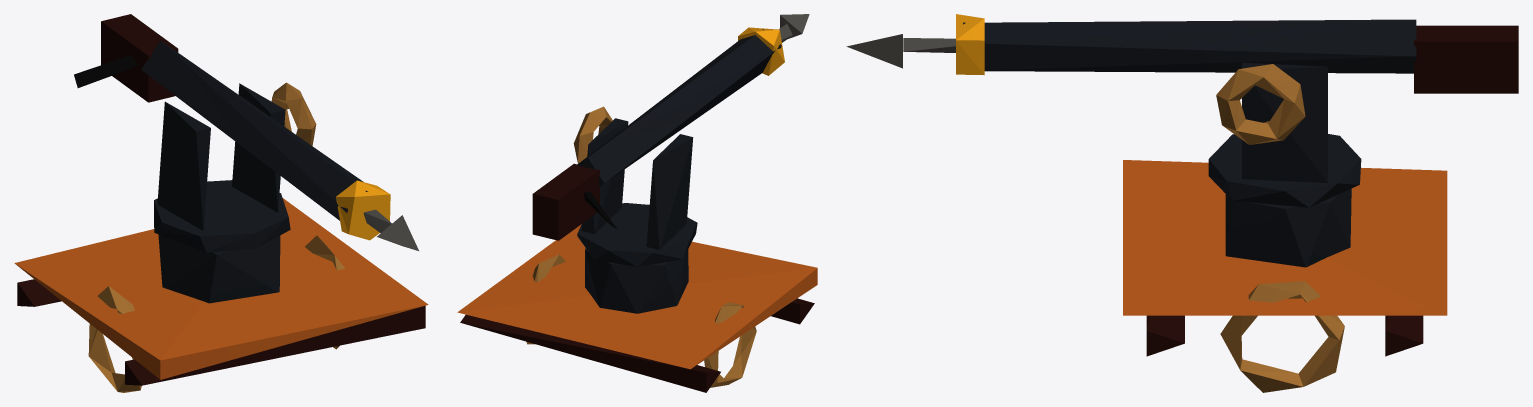
Rendered from tb_upg_harpoon_turret.three-web-toon.lod50.glb.
3 renders of one model, left to right at view 1: azimuth 30°, elevation 25°; view 2: azimuth 150°, elevation 25°; view 3: azimuth 270°, elevation 25°, orthographic. The views are drawn at different scales.
Parts seen in each view (by area): view 1: tb_upg_harpoon_turret_mesh_lod, harpoon_mount_mesh_lod; view 2: tb_upg_harpoon_turret_mesh_lod, harpoon_mount_mesh_lod; view 3: tb_upg_harpoon_turret_mesh_lod, harpoon_mount_mesh_lod.
Boxes of the visible parts, left/top/right/bottom form: tb_upg_harpoon_turret_mesh_lod: left=14, top=198, right=428, bottom=392; harpoon_mount_mesh_lod: left=74, top=14, right=418, bottom=252; tb_upg_harpoon_turret_mesh_lod: left=457, top=224, right=817, bottom=392; harpoon_mount_mesh_lod: left=532, top=14, right=809, bottom=266; tb_upg_harpoon_turret_mesh_lod: left=1123, top=160, right=1447, bottom=392; harpoon_mount_mesh_lod: left=846, top=14, right=1518, bottom=207.
Bounding box in the file's own units: 0.76 × 0.7352 × 1.41.
